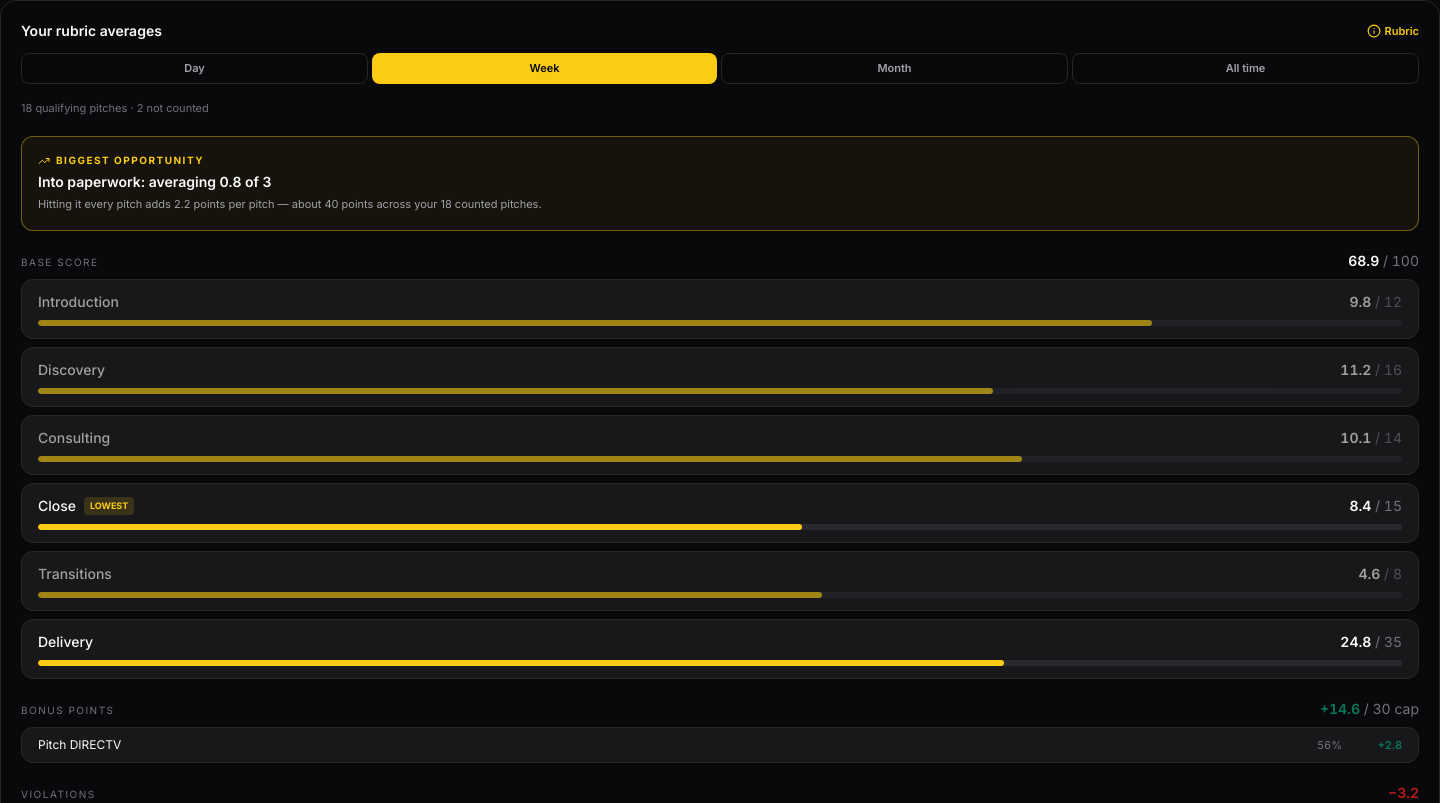
Test case: the board › opens a section to its per-element rates, with the numbers in words as well as a bar
Expected: the text "Biggest opportunity" is shown, [38,154,204,166]
Click the button "Close LOWEST 8.4 / 15": coordinates (57, 505) [22,484,1418,542]
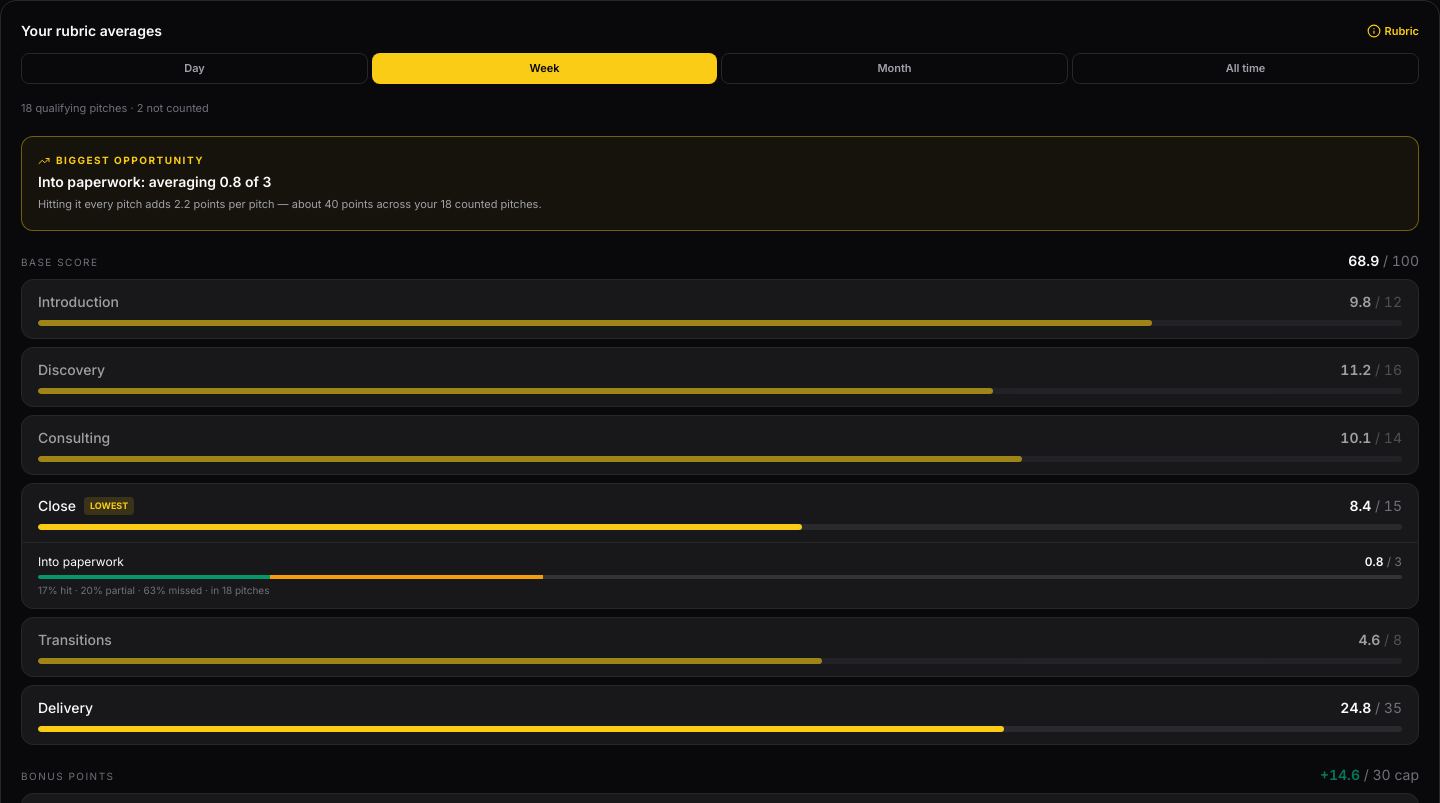
Now the text "Into paperwork" is shown, box [38,553,124,571]
Now the text "17% hit · 20% partial · 63% missed · in 18 pitches" is shown, box [38,584,270,596]
